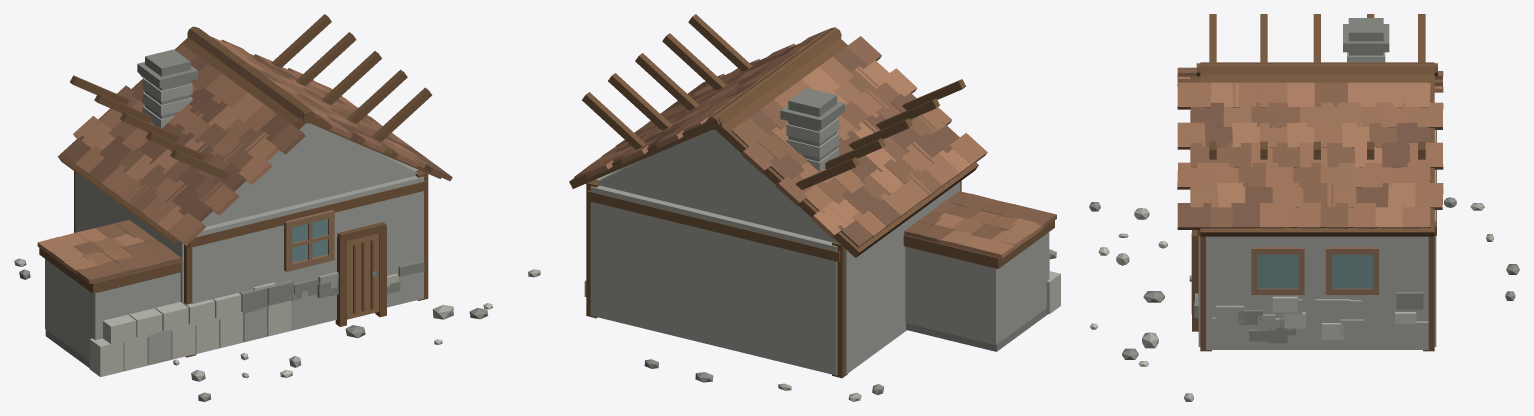
Rendered from CASA-ROCA-MODELO.glb.
3 renders of one model, left to right at view 1: azimuth 30°, elevation 25°; view 2: azimuth 150°, elevation 25°; view 3: azimuth 270°, elevation 25°, orthographic. The views are drawn at different scales.
Visible parts, largest first — view 1: Fachada frontal, Frontón delantero, Anexo pared izquierda, Anexo pared frontal, Base techo izquierda, Pared izquierda, Viga frontal inferior, Puerta, Base techo derecha, Techo anexo, Cuerpo chimenea, Bloque de piedra (+46 smaller); view 2: Pared trasera, Frontón trasero, Pared izquierda, Anexo pared trasera, Base techo izquierda, Anexo pared izquierda, Viga trasera, Base techo derecha, Techo anexo, Cuerpo chimenea, Viga esquina.001, Piso anexo (+45 smaller); view 3: Pared derecha, Base techo derecha, Base techo izquierda, Cristal lateral.001, Cristal lateral, Cumbrera, Cuerpo chimenea, Teja_1_6_0, Teja_1_0_0, Teja_1_2_0, Viga esquina.003, Teja_1_0_3 (+74 smaller).
Part boxes in pixels (x1,y1,x2,y2): Fachada frontal: (191, 175, 423, 354); Frontón delantero: (201, 123, 417, 226); Anexo pared izquierda: (45, 259, 94, 360); Anexo pared frontal: (89, 272, 180, 340); Base techo izquierda: (58, 28, 314, 243); Pared izquierda: (75, 172, 183, 303); Viga frontal inferior: (188, 180, 427, 247); Puerta: (347, 233, 379, 319); Base techo derecha: (187, 29, 441, 178); Techo anexo: (39, 248, 183, 293); Cuerpo chimenea: (145, 49, 190, 118); Bloque de piedra: (89, 338, 123, 377); Pared trasera: (590, 185, 837, 375); Frontón trasero: (597, 129, 836, 242); Pared izquierda: (845, 182, 960, 374); Anexo pared trasera: (905, 246, 996, 344); Base techo izquierda: (706, 28, 978, 257); Anexo pared izquierda: (996, 236, 1046, 343); Viga trasera: (587, 190, 840, 261); Base techo derecha: (569, 30, 841, 188); Techo anexo: (903, 220, 1054, 268); Cuerpo chimenea: (788, 88, 836, 161); Viga esquina.001: (832, 241, 848, 378); Piso anexo: (906, 308, 1047, 351); Pared derecha: (1206, 236, 1428, 349); Base techo derecha: (1200, 62, 1434, 236); Base techo izquierda: (1200, 66, 1434, 74); Cristal lateral.001: (1257, 254, 1298, 288); Cristal lateral: (1331, 254, 1372, 288); Cumbrera: (1196, 63, 1437, 76); Cuerpo chimenea: (1348, 18, 1383, 55); Teja_1_6_0: (1177, 82, 1211, 109); Teja_1_0_0: (1177, 203, 1211, 229); Teja_1_2_0: (1177, 162, 1211, 189); Viga esquina.003: (1423, 236, 1434, 351); Teja_1_0_3: (1259, 203, 1293, 228).
Bounding box in the file's own units: 11.43 × 5.65 × 9.27.
